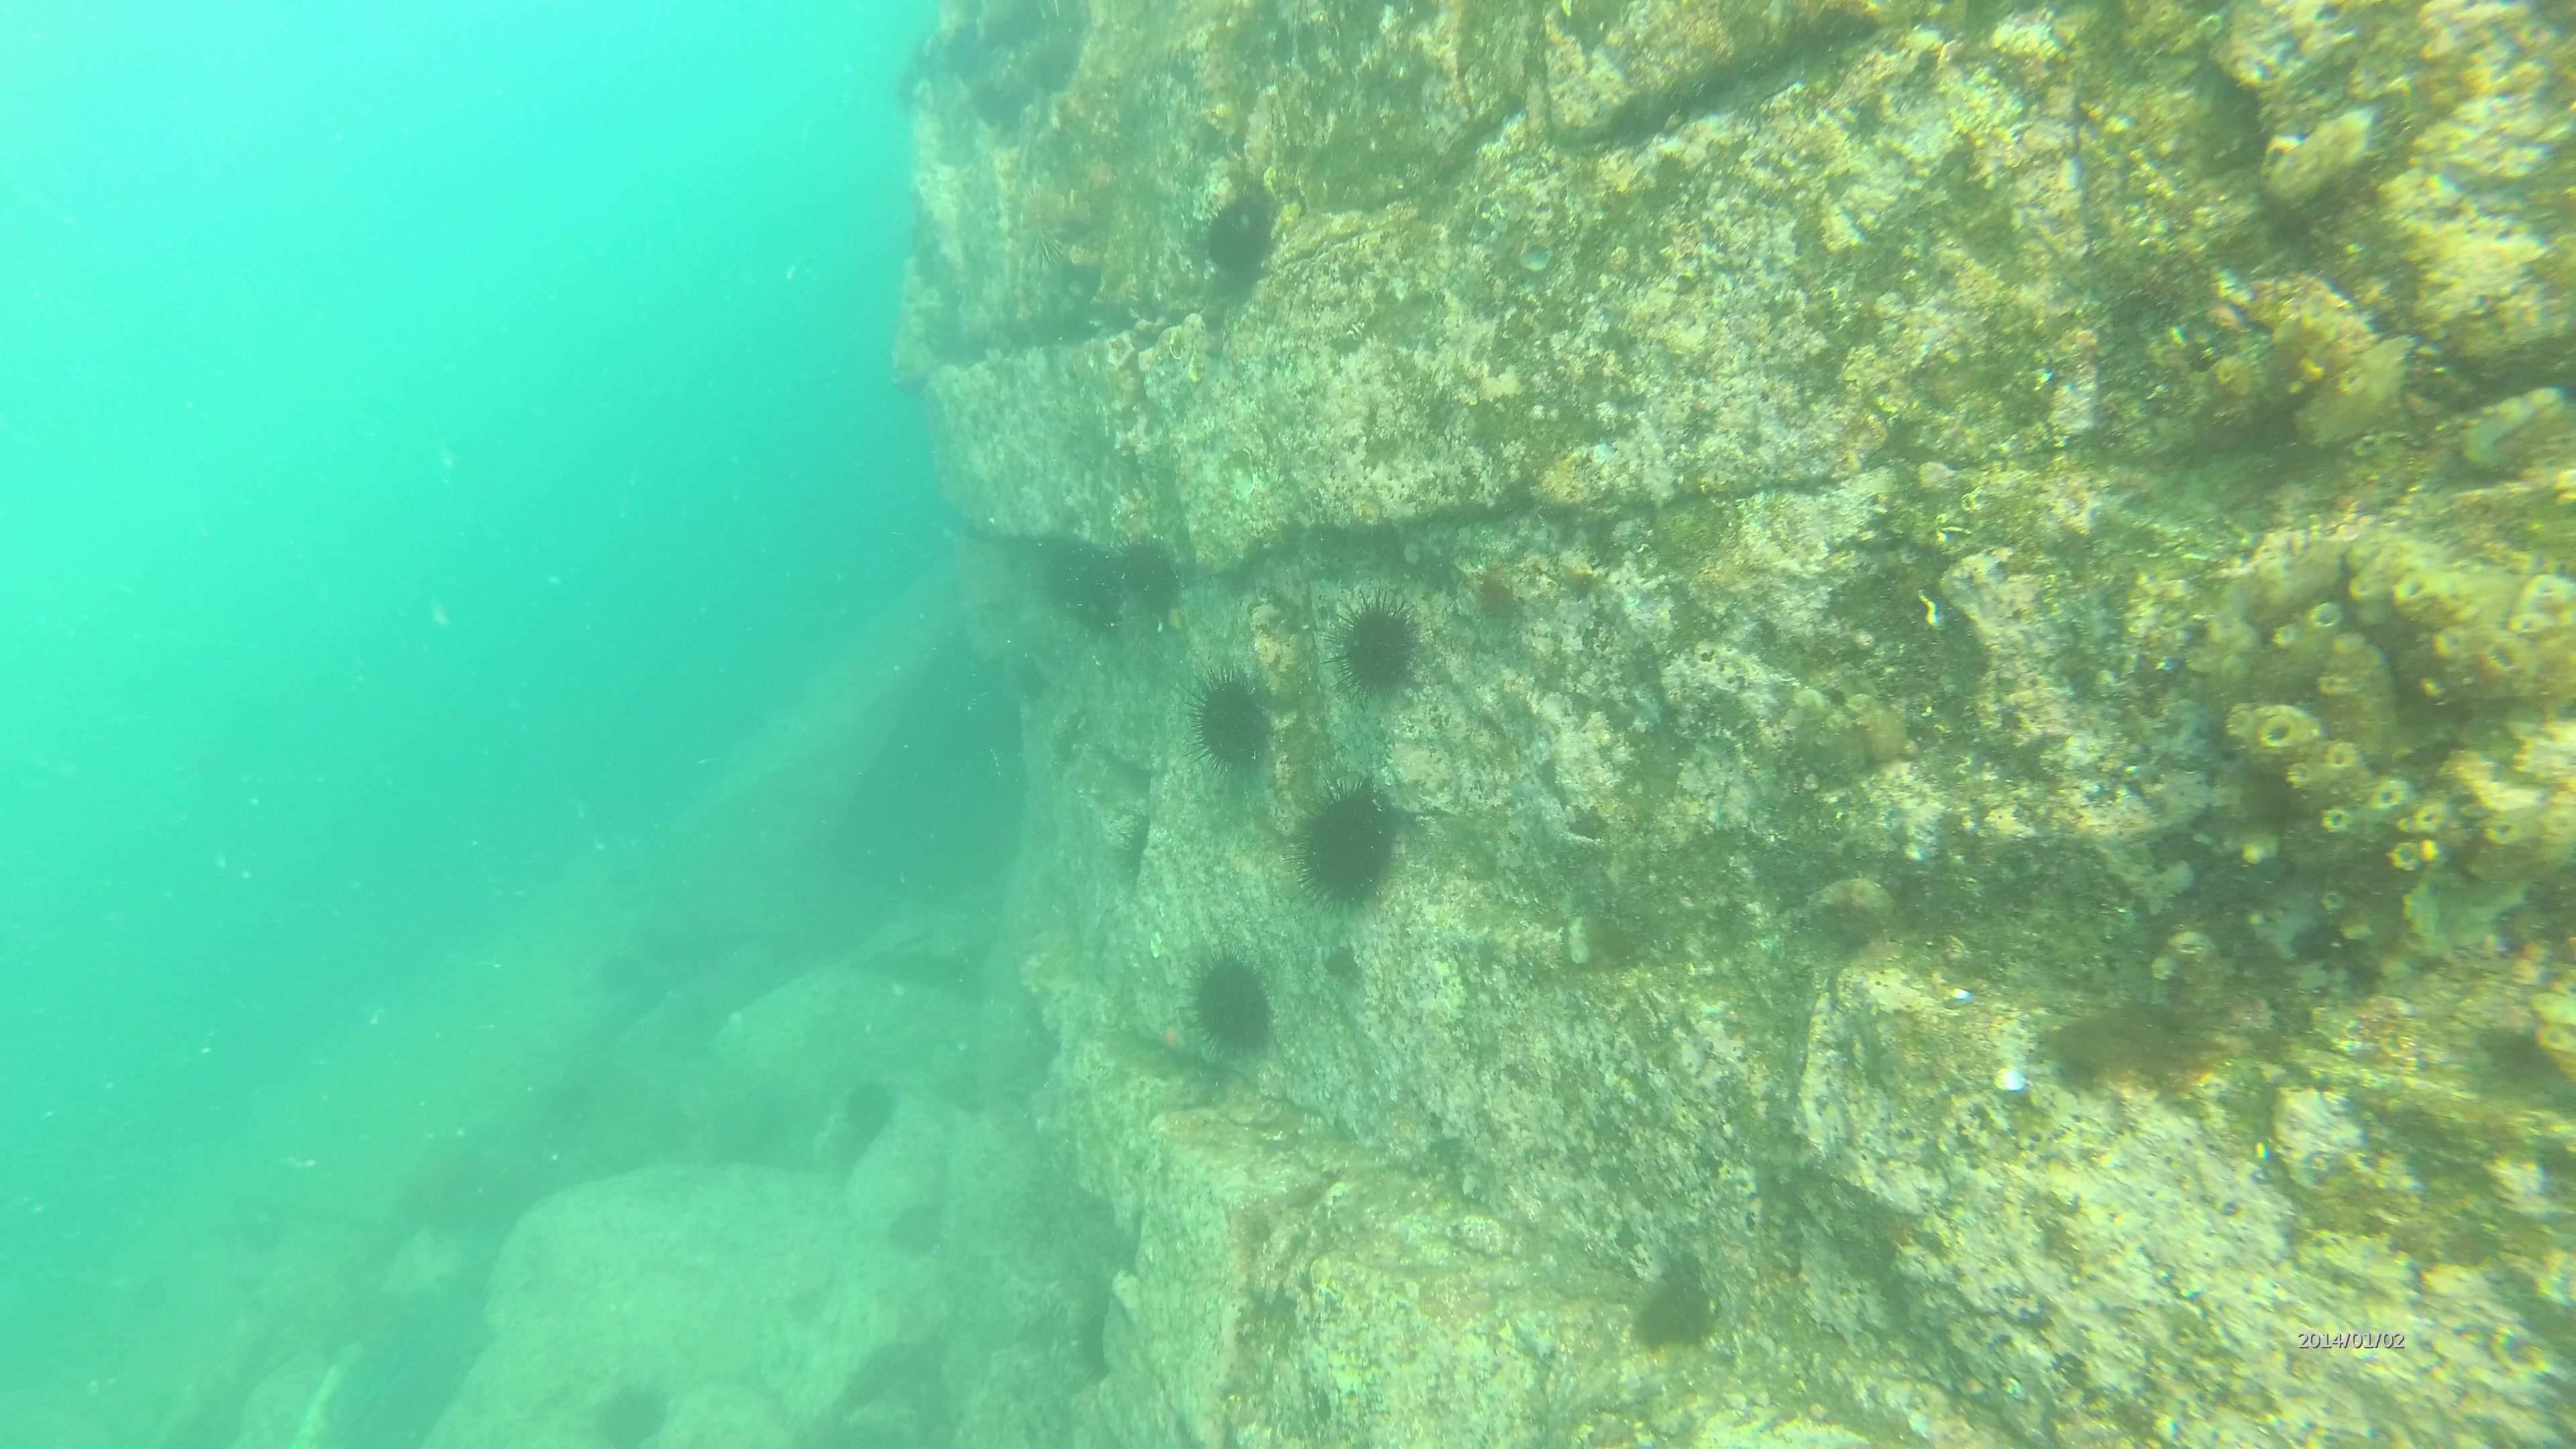echinus: (1293, 778, 1403, 913), (1615, 1254, 1737, 1369), (1180, 955, 1302, 1069), (1329, 596, 1430, 715), (1184, 665, 1283, 771), (1191, 191, 1284, 283), (387, 1159, 478, 1235), (1111, 531, 1184, 610), (837, 1072, 909, 1150), (881, 1196, 954, 1274), (596, 1371, 669, 1449), (579, 948, 640, 1012), (722, 697, 777, 759), (763, 667, 817, 729), (621, 918, 674, 978)
